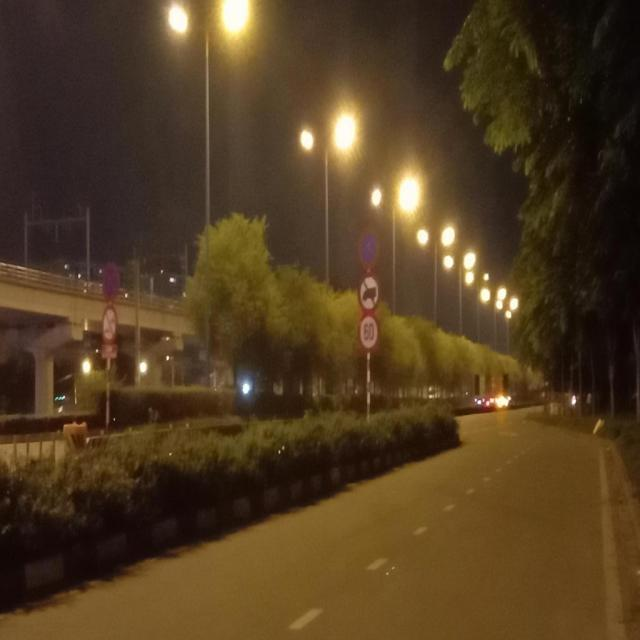106-cam-oto-tai: (356, 272, 379, 314)
127-toc-do-toi-da-50: (358, 315, 378, 349)
